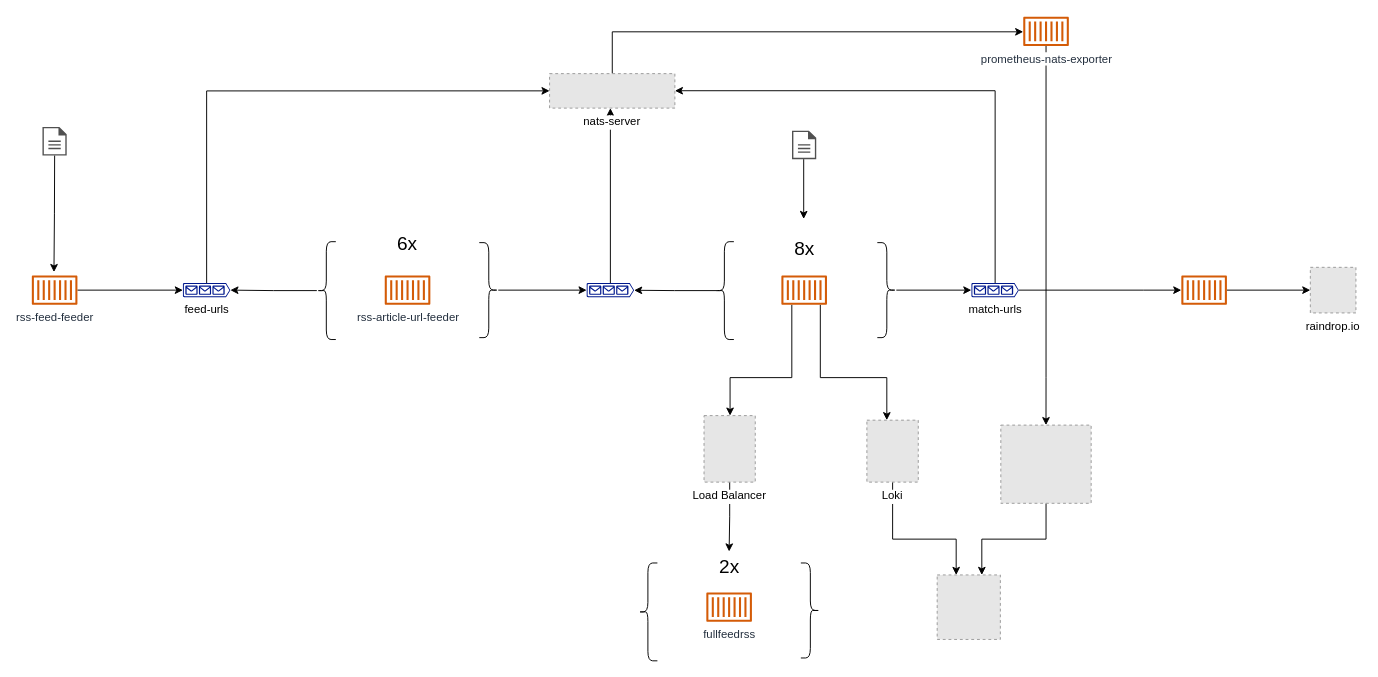
Image size: 1378x677. Some labels were removed from this diagram. Grey dashed boxes stand in for pictures. The shapes that lost their labels are listed below. From the top down, each one's centre as x and y in pixels, then its label:
[54,141]: urls.txt
[804,144]: keywords.txt
[610,290]: article-urls
[803,289]: keyword-matcher
[1203,289]: raindrop-integration
